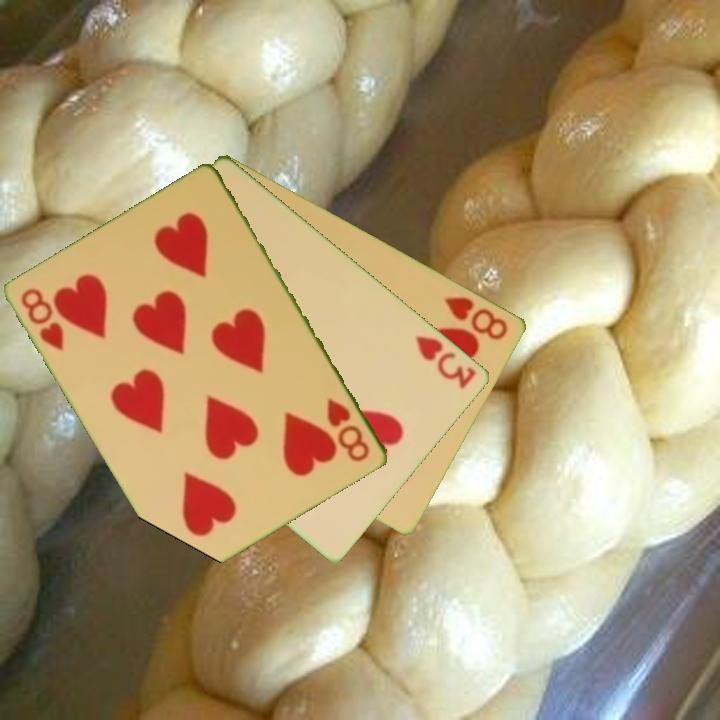3h: (412, 331, 480, 392)
8h: (441, 292, 512, 343), (17, 284, 68, 354), (323, 395, 373, 465)
